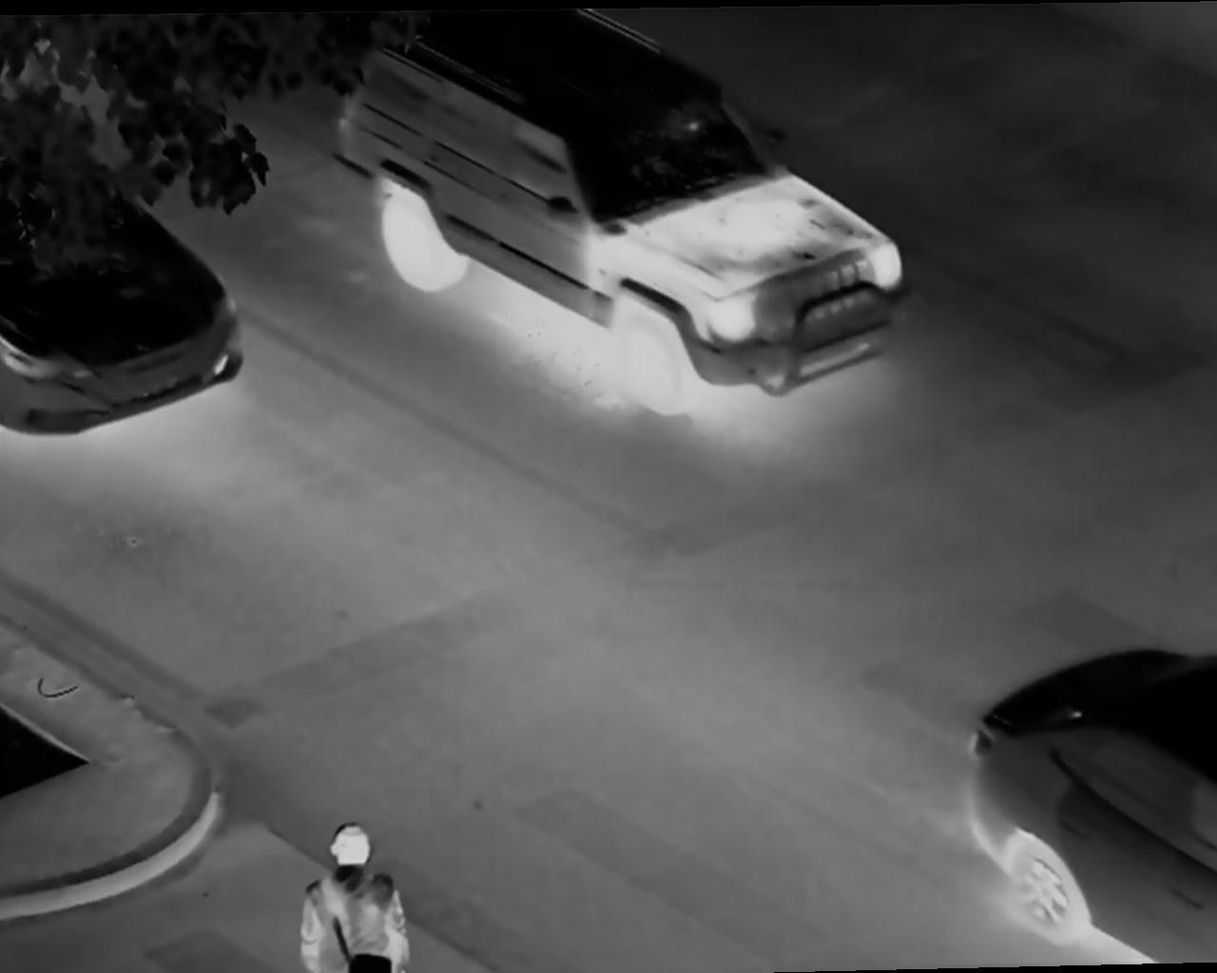person: (294, 814, 421, 973)
